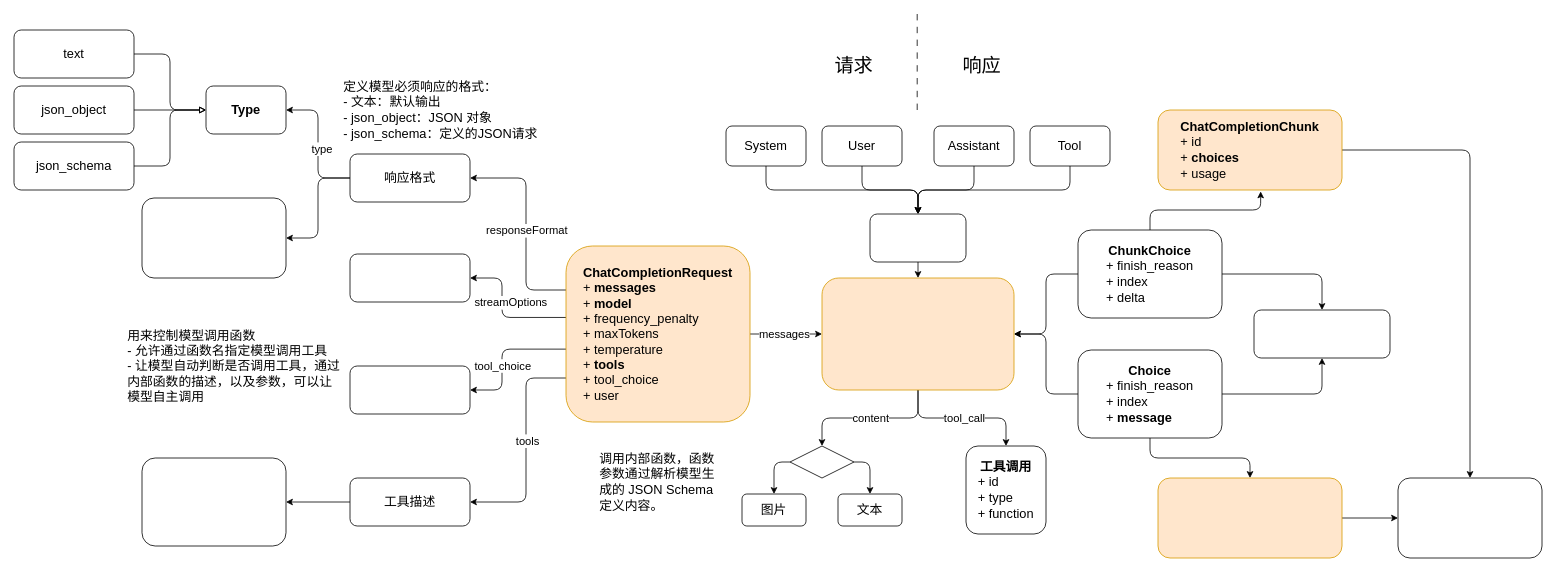
This 1556x572 diagram has some shape labels left out. Here are the shapes that lost their labels. From the top down, the box of each, then its label:
(141, 197, 286, 278): json_schema + name: String + schema: String + strict: boolean
(869, 213, 966, 262): 角色
(349, 253, 470, 302): 流式选项
(821, 277, 1014, 390): ChatCompletionMessage + content + role + name + tool_calls
(1253, 309, 1390, 358): FinishReason
(349, 365, 470, 414): 工具选择
(141, 457, 286, 546): 内部函数 + name + description + parameters
(1157, 477, 1342, 558): ChatCompletion + id + choices + usage
(1397, 477, 1542, 558): Usage + completion_tokens + prompt_tokens + total_tokens
